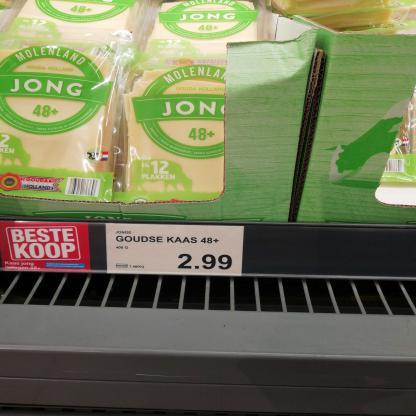prtg: (106, 225, 245, 278)
